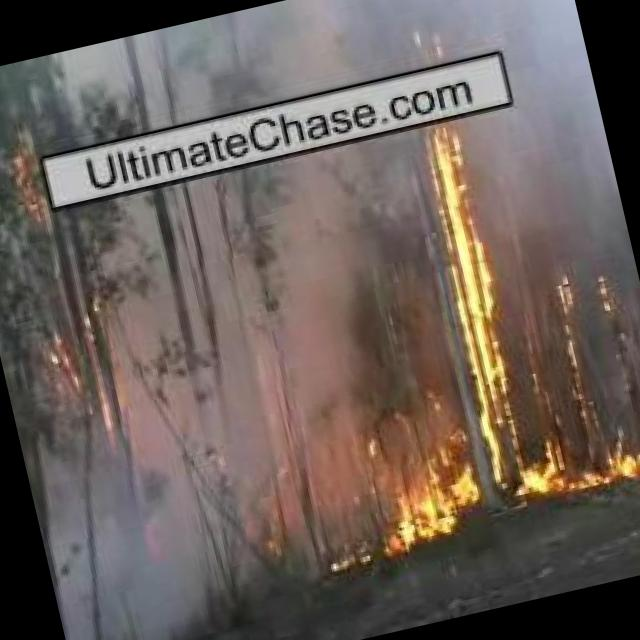Fire: (412, 116, 542, 475), (348, 452, 486, 558), (41, 302, 112, 410), (0, 134, 65, 249), (518, 446, 640, 507), (550, 266, 602, 407)
